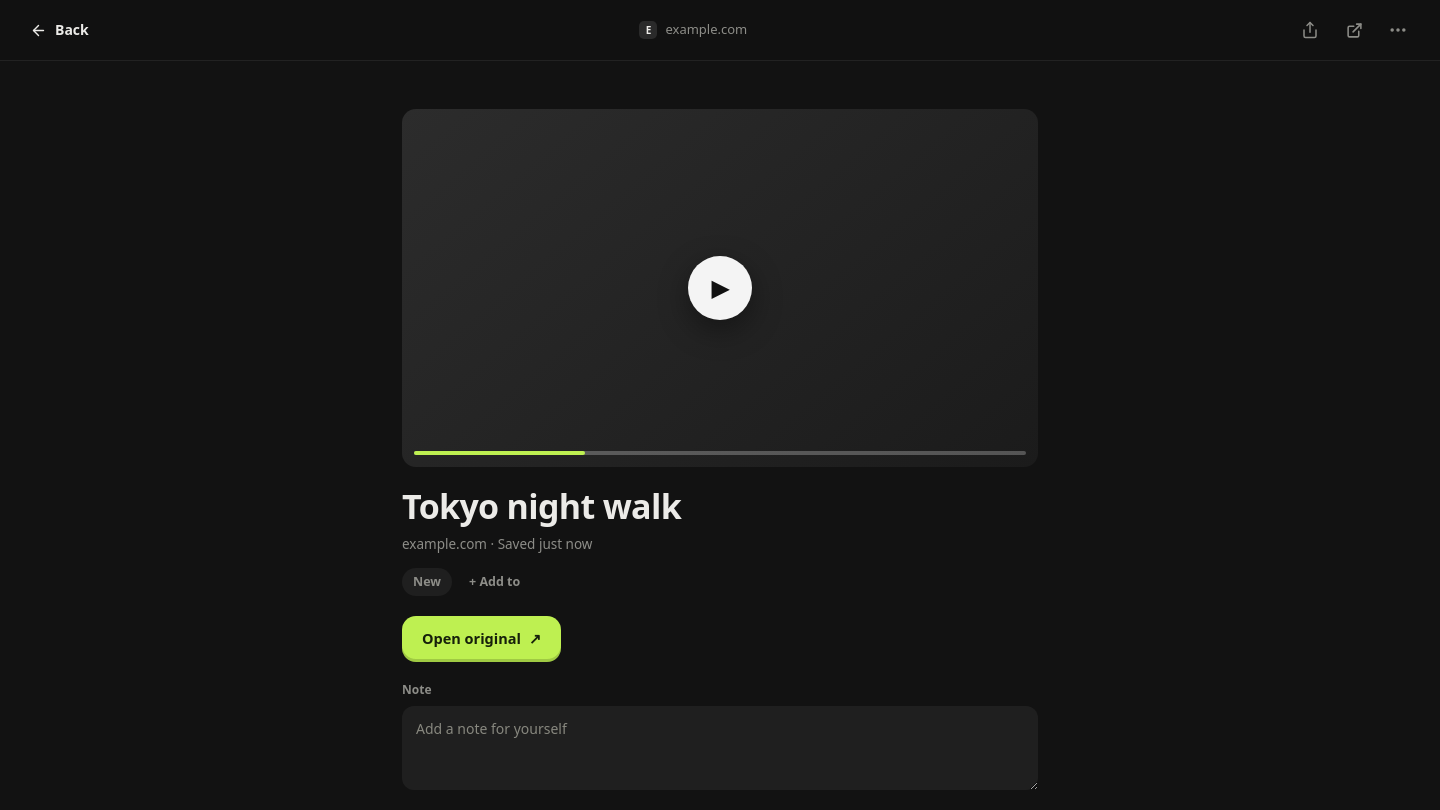
Test: the link page on a phone › opens the Add to sheet from More
Click the button named "More actions" at [1398, 30], box [1376,8,1420,52]
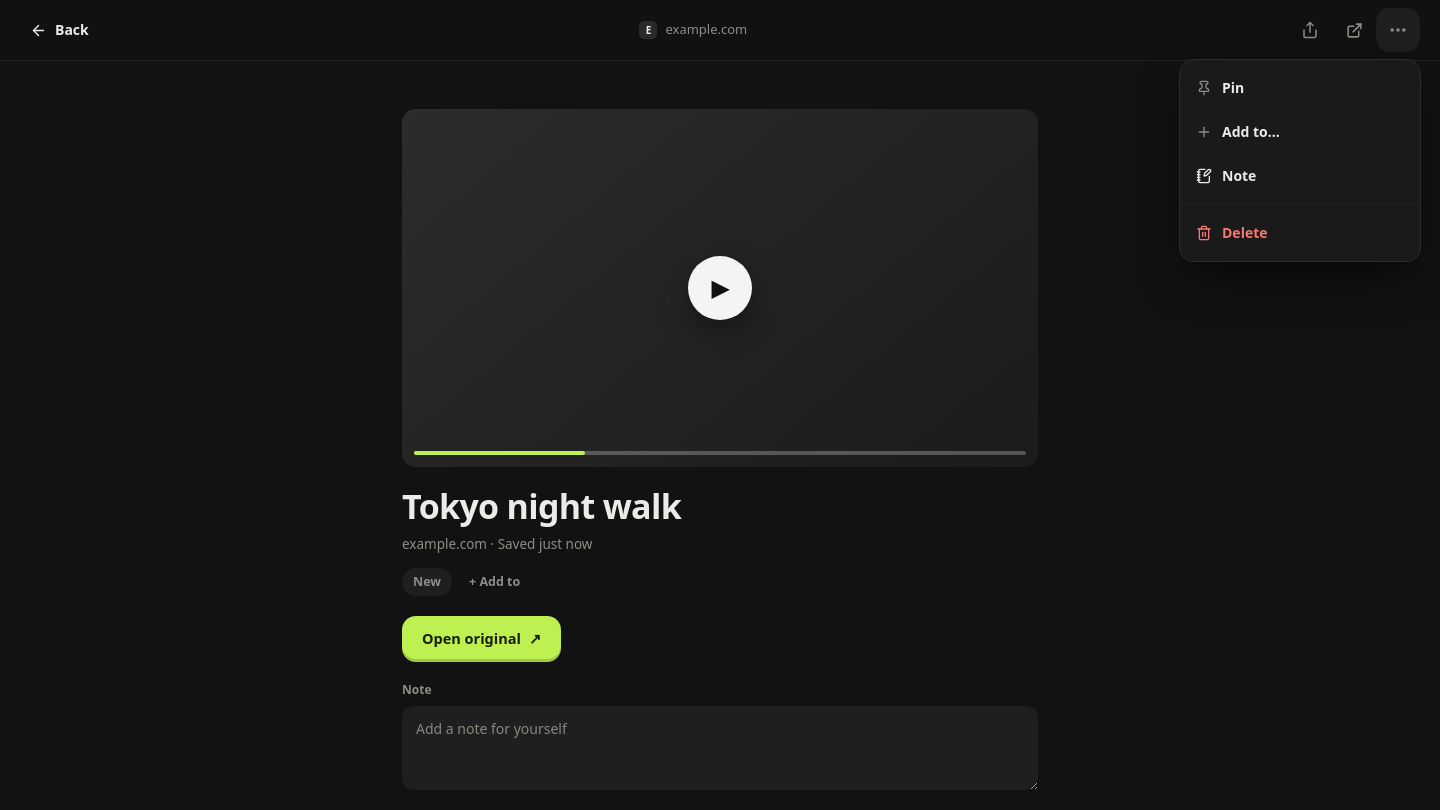
Click the menu item "Add to…" at [1238, 132], box [1196,122,1280,141]
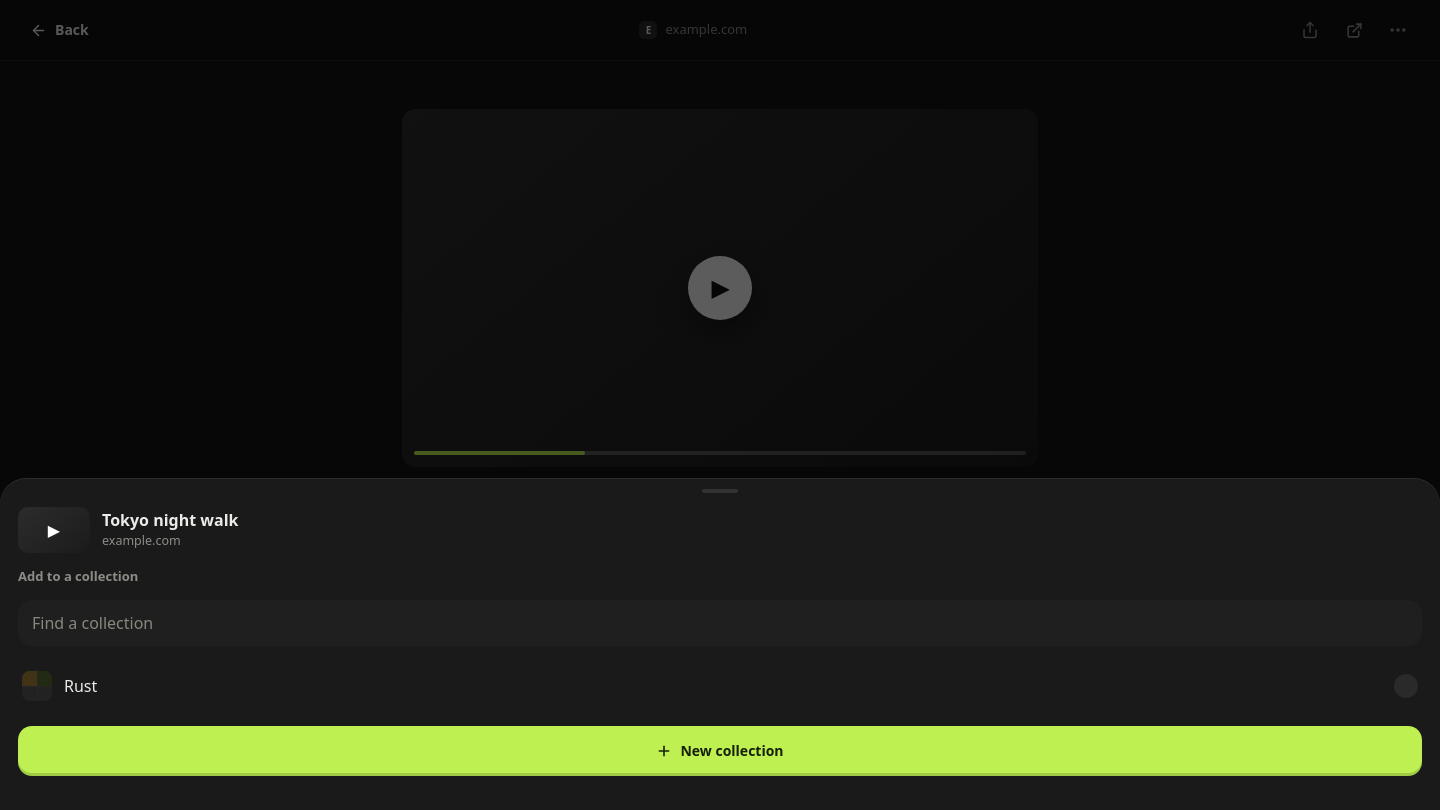
Now the dialog "Tokyo night walk" is shown, box [0,478,1439,809]
